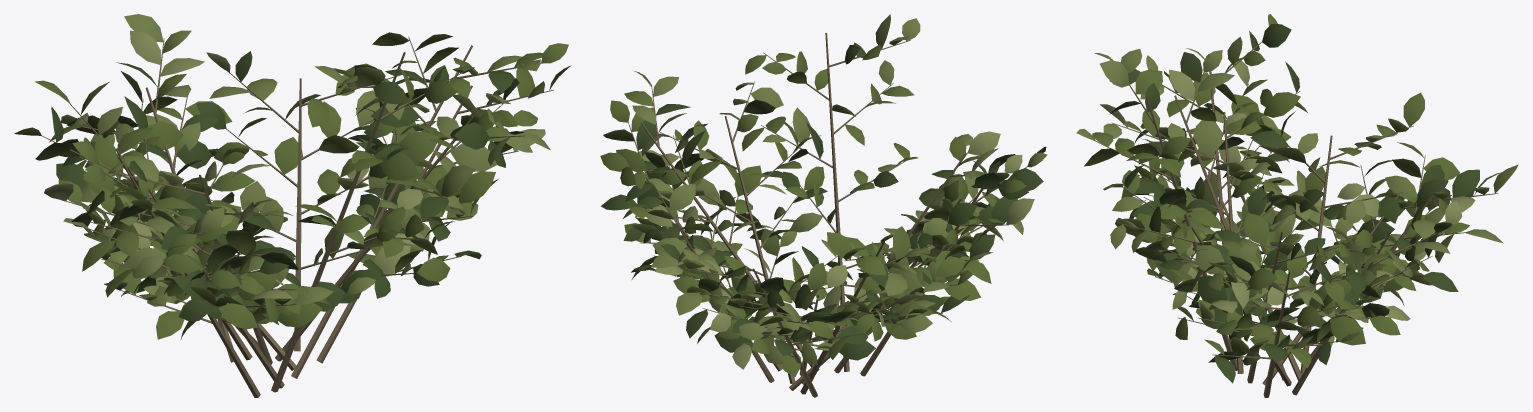
File: verge_shrub.glb
The picture shows the model from 3 angles, left to right: view 1: azimuth 30°, elevation 25°; view 2: azimuth 150°, elevation 25°; view 3: azimuth 270°, elevation 25°; orthographic projection. The views are drawn at different scales.
Visible parts, largest first — view 1: VergeShrub; view 2: VergeShrub; view 3: VergeShrub.
Part boxes in pixels (left/top/right/bottom): VergeShrub: left=14, top=14, right=571, bottom=397; VergeShrub: left=600, top=14, right=1047, bottom=397; VergeShrub: left=1076, top=14, right=1518, bottom=397.
Size of the model in its own units: 1.47 by 0.9874 by 1.24.
